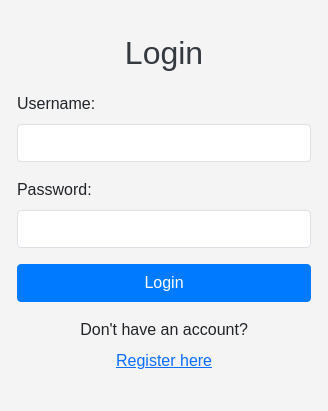
should allow the user to register
Click the button "Register here" at [164, 361], box left=17, top=342, right=311, bottom=380
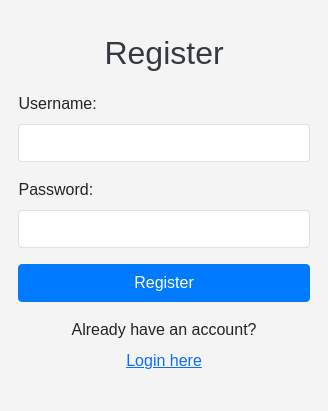
Type "testuser" into the field labelled "Username:" at [164, 143], box left=18, top=124, right=310, bottom=162
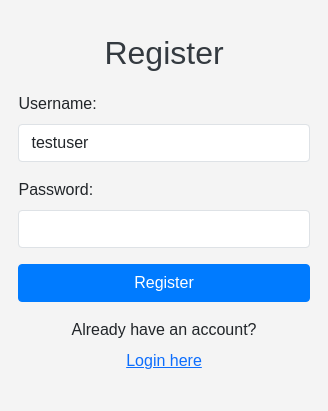
Type "password123" into the password field labelled "Password:" at [164, 229], box left=18, top=210, right=310, bottom=248
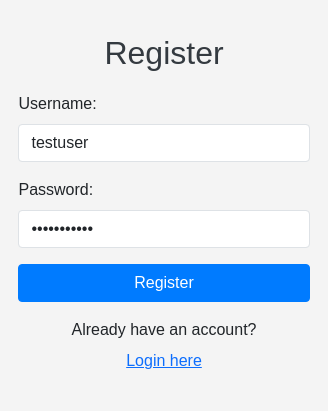
Click the button "Register" at [164, 283], box left=18, top=264, right=310, bottom=302
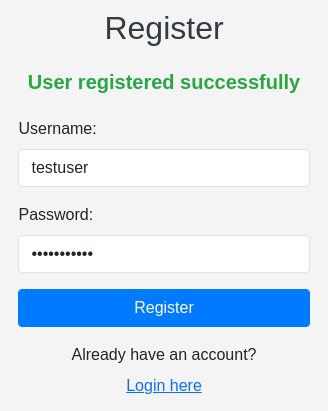
Check: the text "User registered successfully" is shown, box left=18, top=67, right=310, bottom=97
